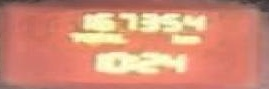0: (103, 49, 125, 73)
1: (94, 50, 103, 73), (80, 9, 89, 29)
2: (136, 50, 160, 73)
3: (138, 11, 158, 31)
4: (160, 52, 189, 72), (180, 12, 207, 29)
5: (158, 11, 180, 31)
6: (92, 9, 114, 29)
7: (116, 9, 136, 29)
X: (105, 30, 127, 43), (180, 33, 200, 43), (65, 31, 80, 42), (80, 31, 91, 42), (169, 32, 180, 43), (94, 30, 103, 43), (127, 52, 133, 69)
